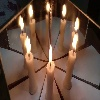fire: (49, 44, 53, 64)
